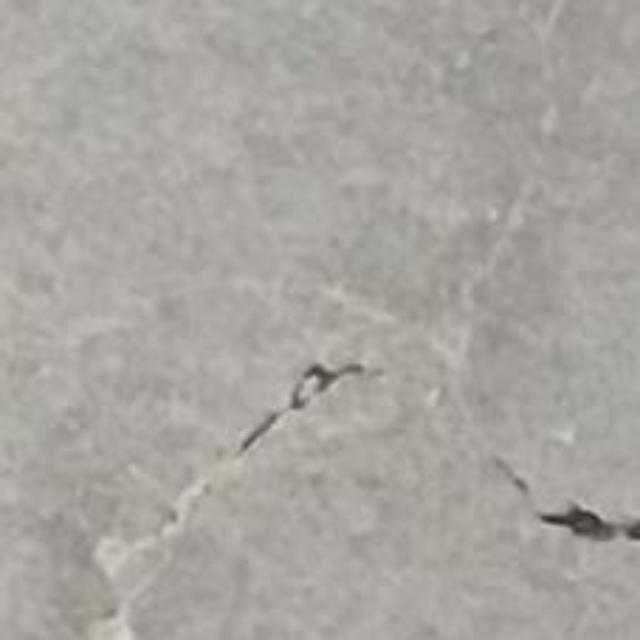crack: (105, 361, 380, 572)
